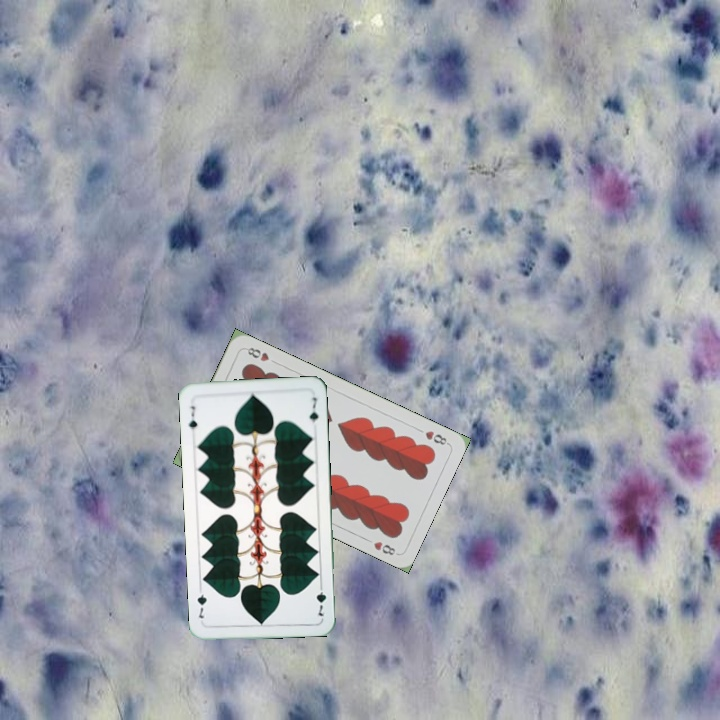G7: (312, 579, 329, 618), (185, 402, 200, 432)
H8: (421, 427, 451, 448)
